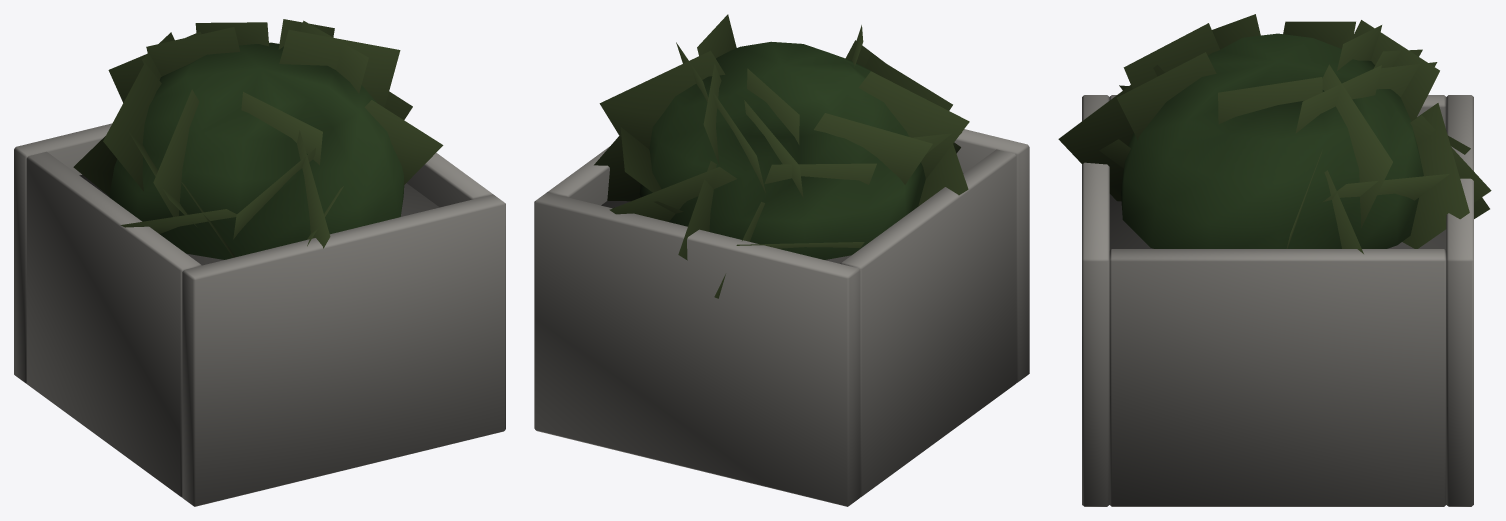
File: veg.planter.glb
3 views of the same model, side by side, from view 1: azimuth 30°, elevation 25°; view 2: azimuth 150°, elevation 25°; view 3: azimuth 270°, elevation 25° (orthographic). The views are drawn at different scales.
Visible parts, largest first — view 1: LOD0; view 2: LOD0; view 3: LOD0.
Boxes of the visible parts, x1,y1,x2,y2 form: LOD0: [14, 19, 505, 506]; LOD0: [534, 14, 1029, 506]; LOD0: [1058, 14, 1491, 506].
Size of what is drawn, in the model's own units: 1.03 by 1.12 by 1.11.
